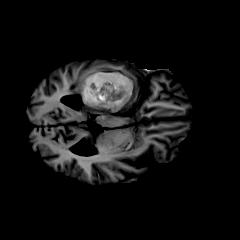glioma: (75, 70, 142, 114)
